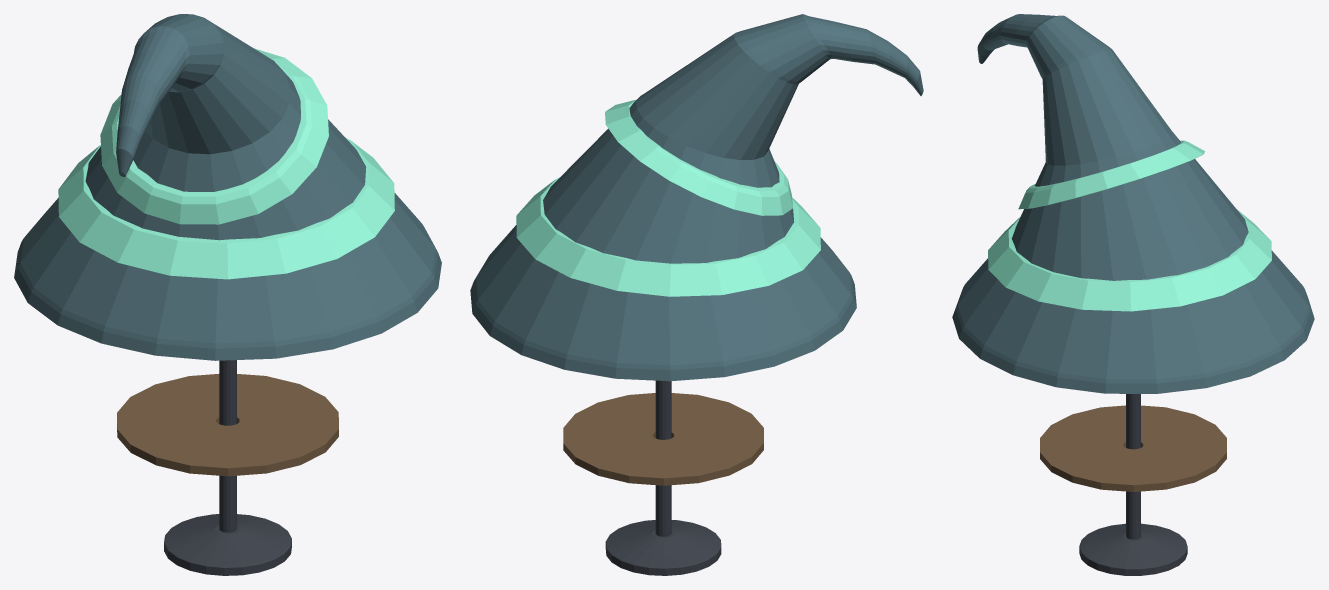
The model's file is WazardTable_Gray.fbx.
3 renders of one model, left to right at view 1: azimuth 30°, elevation 25°; view 2: azimuth 150°, elevation 25°; view 3: azimuth 270°, elevation 25°, orthographic. The views are drawn at different scales.
Visible parts, largest first — view 1: WazardTable_Gray; view 2: WazardTable_Gray; view 3: WazardTable_Gray.
Part boxes in pixels (x1,y1,x2,y2): WazardTable_Gray: (14,14,441,575); WazardTable_Gray: (470,14,923,575); WazardTable_Gray: (952,14,1314,575).
Bounding box in the file's own units: 520 × 758 × 506.
